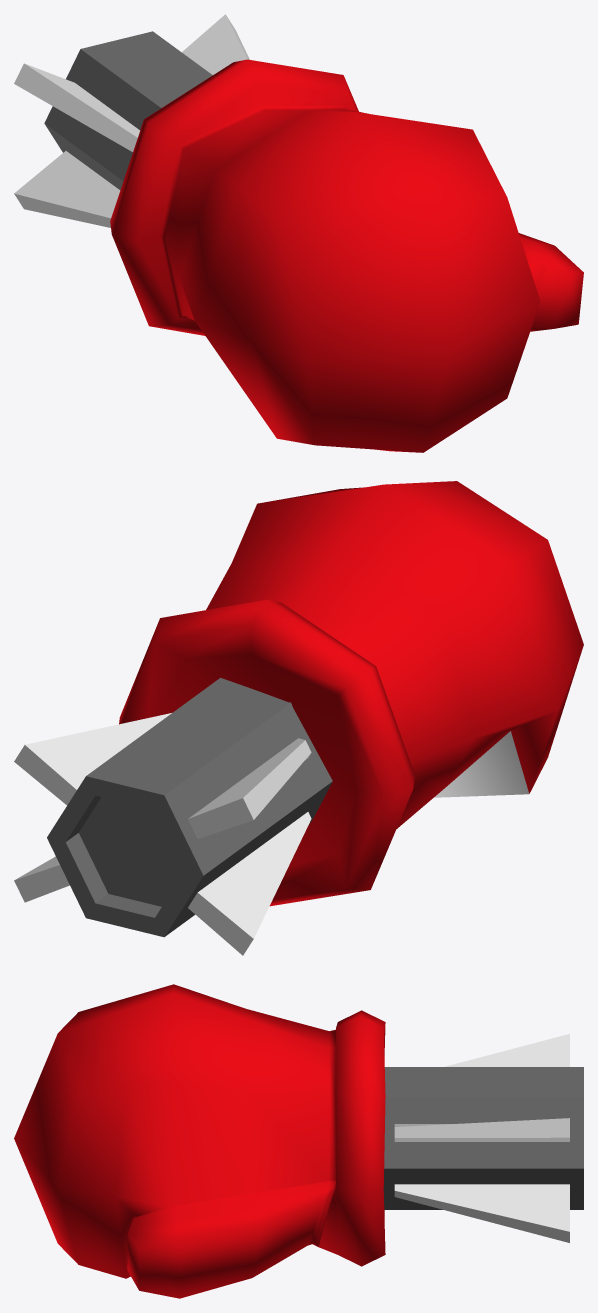
The model's file is YaPF_BULLET.fbx.
3 views of the same model, one above another, from view 1: azimuth 30°, elevation 25°; view 2: azimuth 150°, elevation 25°; view 3: azimuth 270°, elevation 25° (orthographic). The views are drawn at different scales.
Parts seen in each view (by area): view 1: BULLET; view 2: BULLET; view 3: BULLET.
Part boxes in pixels (box(x1,y1,x2,y2)): BULLET: box(14, 14, 583, 452); BULLET: box(14, 481, 583, 955); BULLET: box(14, 984, 583, 1298).
Bounding box in the file's own units: 192 × 156 × 299.
